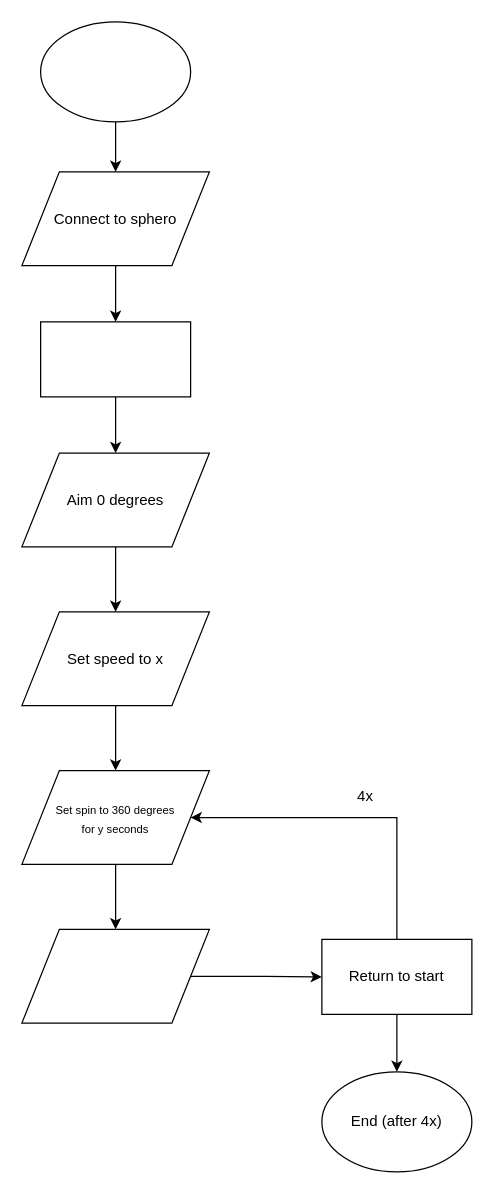
The diagram is 494 pixels wide and 1194 high, and some of its shapes have lost their labels. The centre of each missing label's shape, as x and y in pixels:
"Place on start point" belongs at [115,359].
"Set spin to - 360 degrees for y seconds" belongs at [115,975].
"Start" belongs at [115,71].
